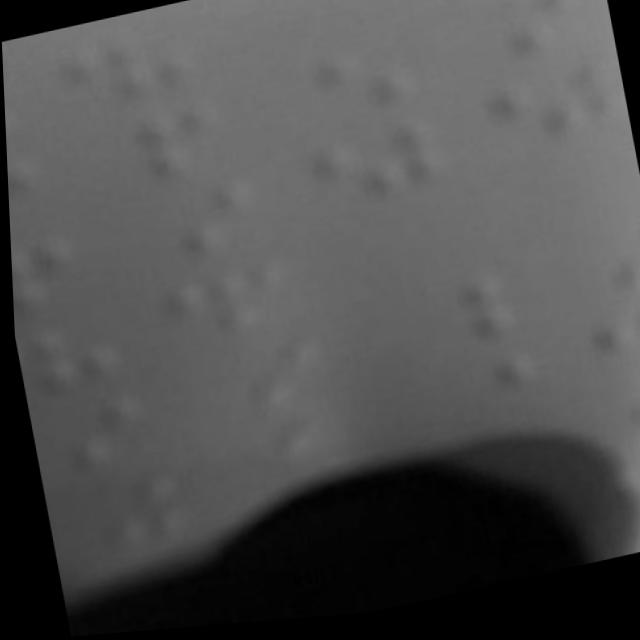braiile: (346, 272, 521, 380), (279, 122, 453, 227), (66, 105, 230, 215), (172, 335, 334, 443), (253, 49, 417, 154), (145, 261, 303, 367), (108, 181, 267, 285), (472, 68, 630, 170), (33, 34, 189, 135), (434, 0, 589, 88), (25, 396, 154, 492), (11, 307, 131, 404), (420, 0, 552, 18)
